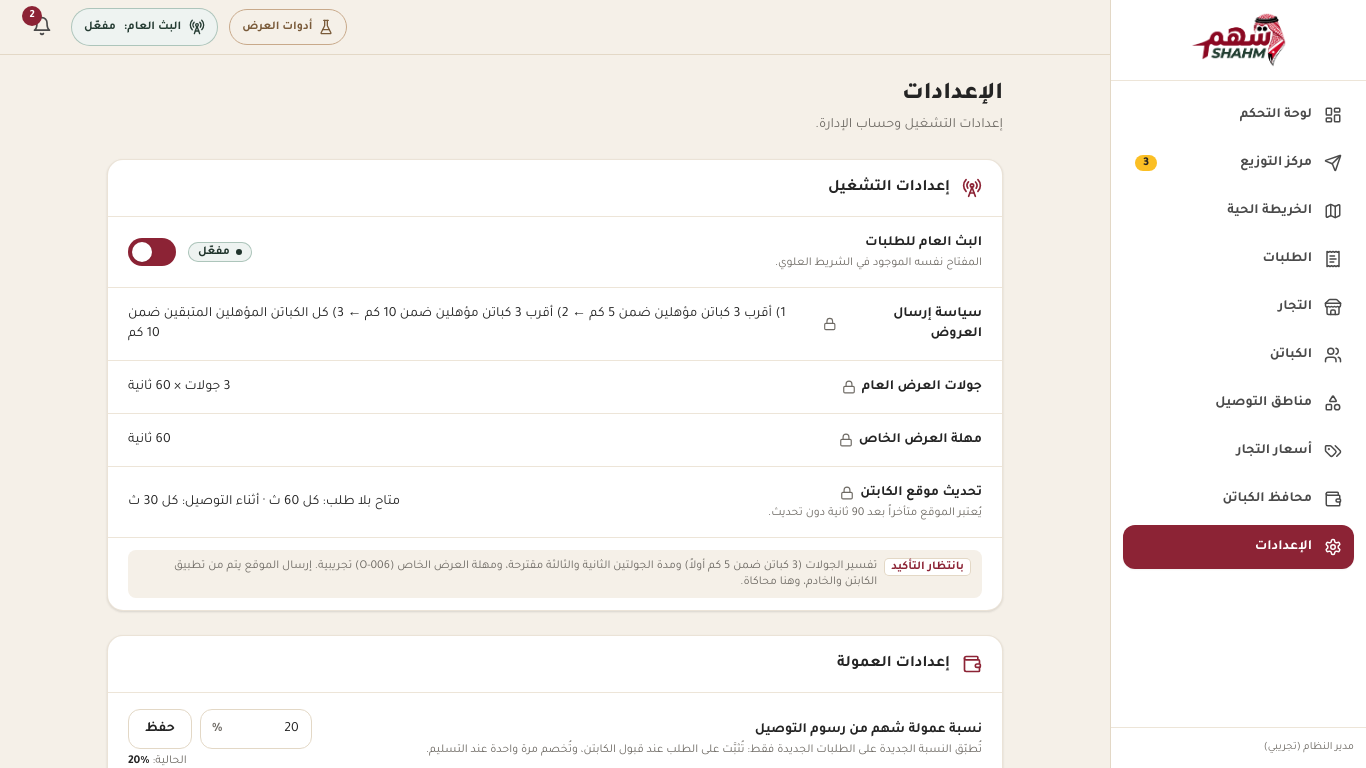
Scenario: Admin shell and settings › settings: operation, commission, account, password reset and sign-out only; the toggle is the same single setting
Click the switch named "البث العام للطلبات".
click(152, 252)  # box [128, 238, 176, 266]
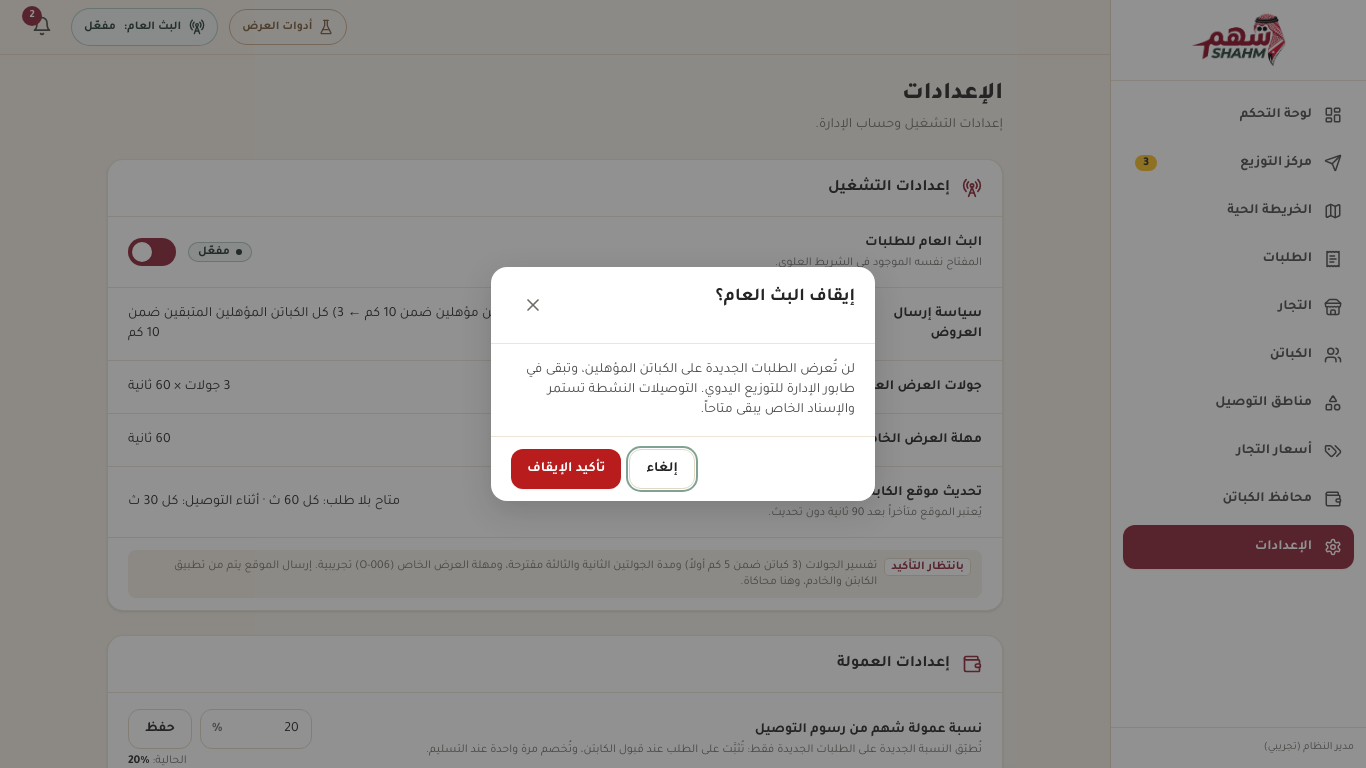
Click the button "تأكيد الإيقاف".
click(566, 469)  # box [511, 449, 621, 489]
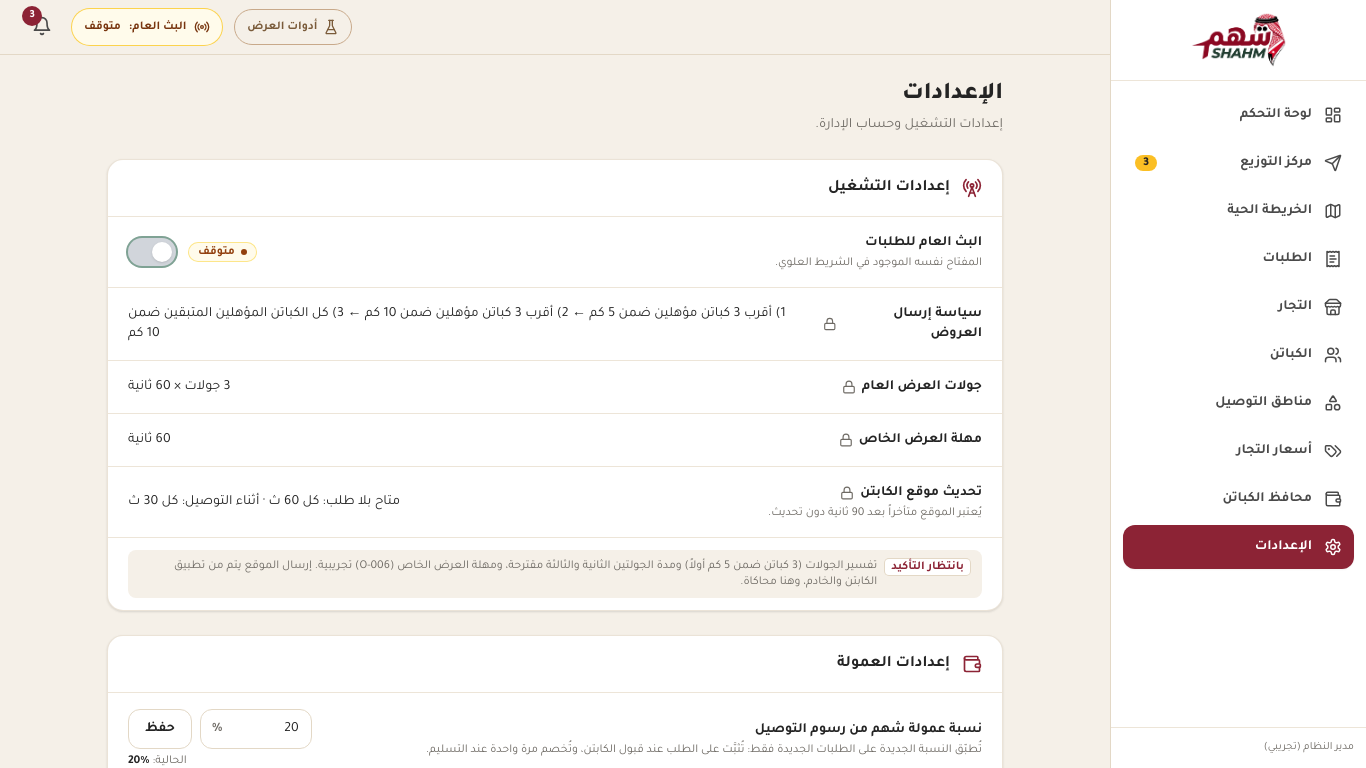
Now the button with aria-label "الحالة الآن: متوقف" is shown, box [72, 9, 222, 45]
